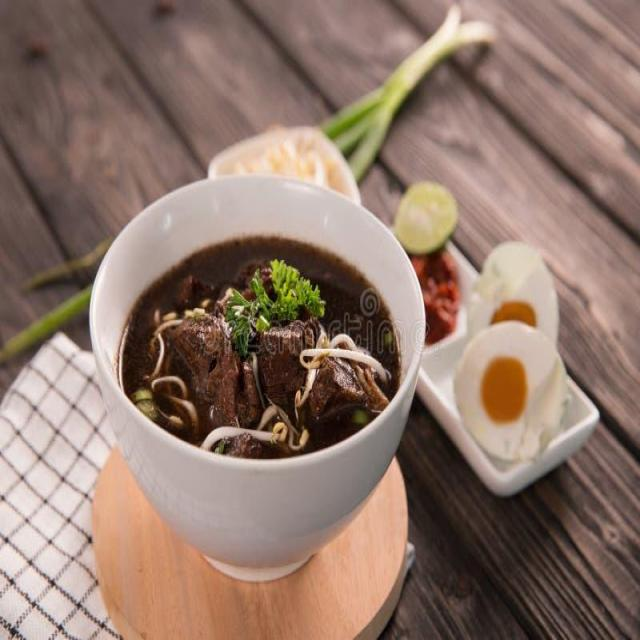Rawon: (102, 220, 413, 450)
